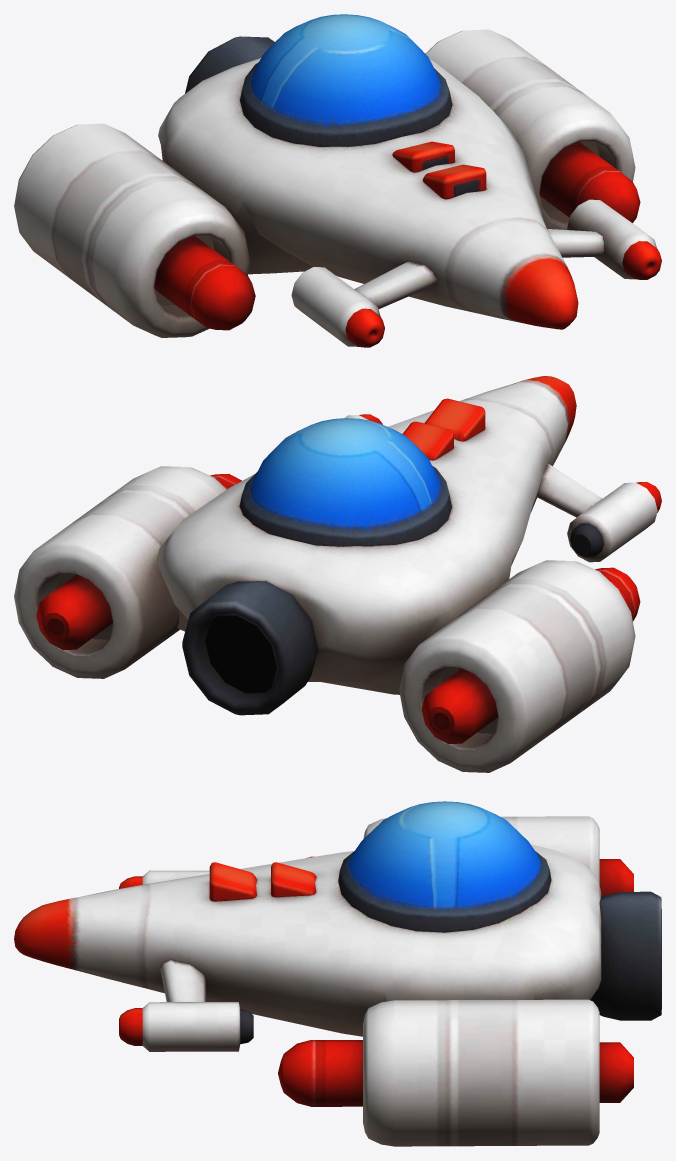
The model's file is Blast Fighter.dae.
3 renders of one model, top to bottom at view 1: azimuth 30°, elevation 25°; view 2: azimuth 150°, elevation 25°; view 3: azimuth 270°, elevation 25°, orthographic. The views are drawn at different scales.
Parts seen in each view (by area): view 1: BlastfighterShip_Mesh; view 2: BlastfighterShip_Mesh; view 3: BlastfighterShip_Mesh.
Boxes of the visible parts, x1,y1,x2,y2 form: BlastfighterShip_Mesh: [14, 14, 661, 347]; BlastfighterShip_Mesh: [14, 376, 661, 772]; BlastfighterShip_Mesh: [14, 801, 661, 1146].
Size of the model in its own units: 13.83 by 15.45 by 6.24.
Materials: 1 (1 with a texture image).
